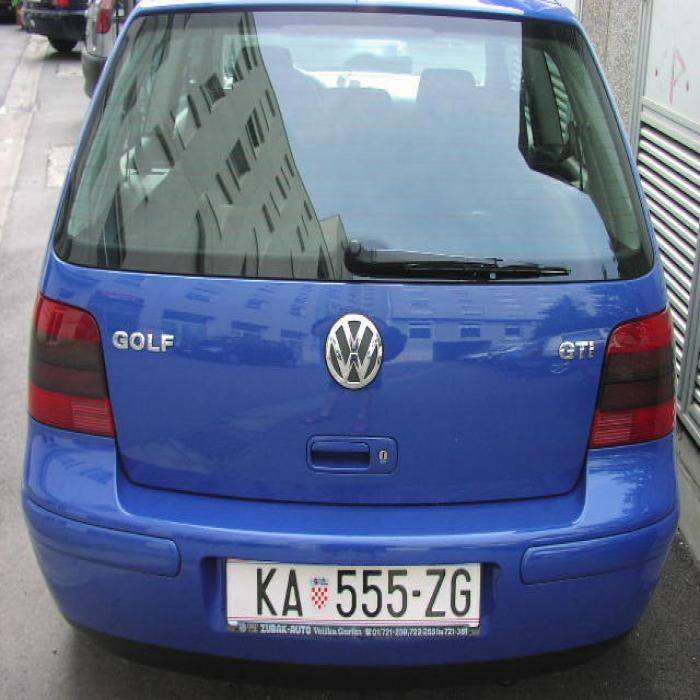number_plate: (226, 559, 482, 627)
